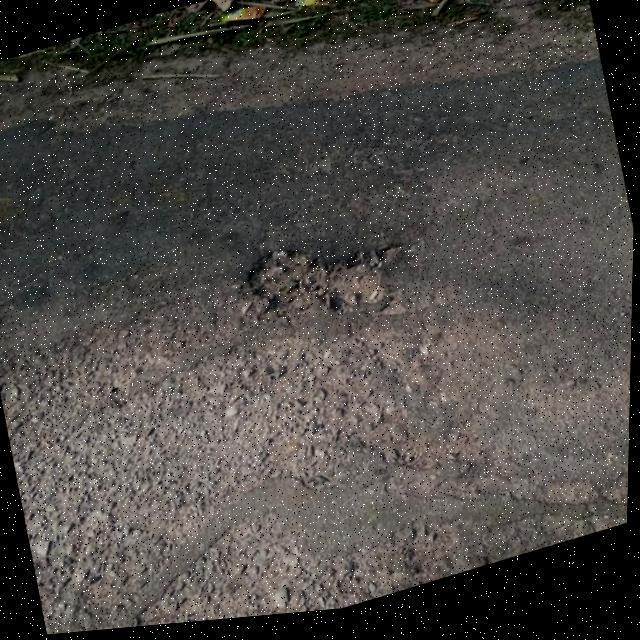pothole: (238, 223, 394, 347)
